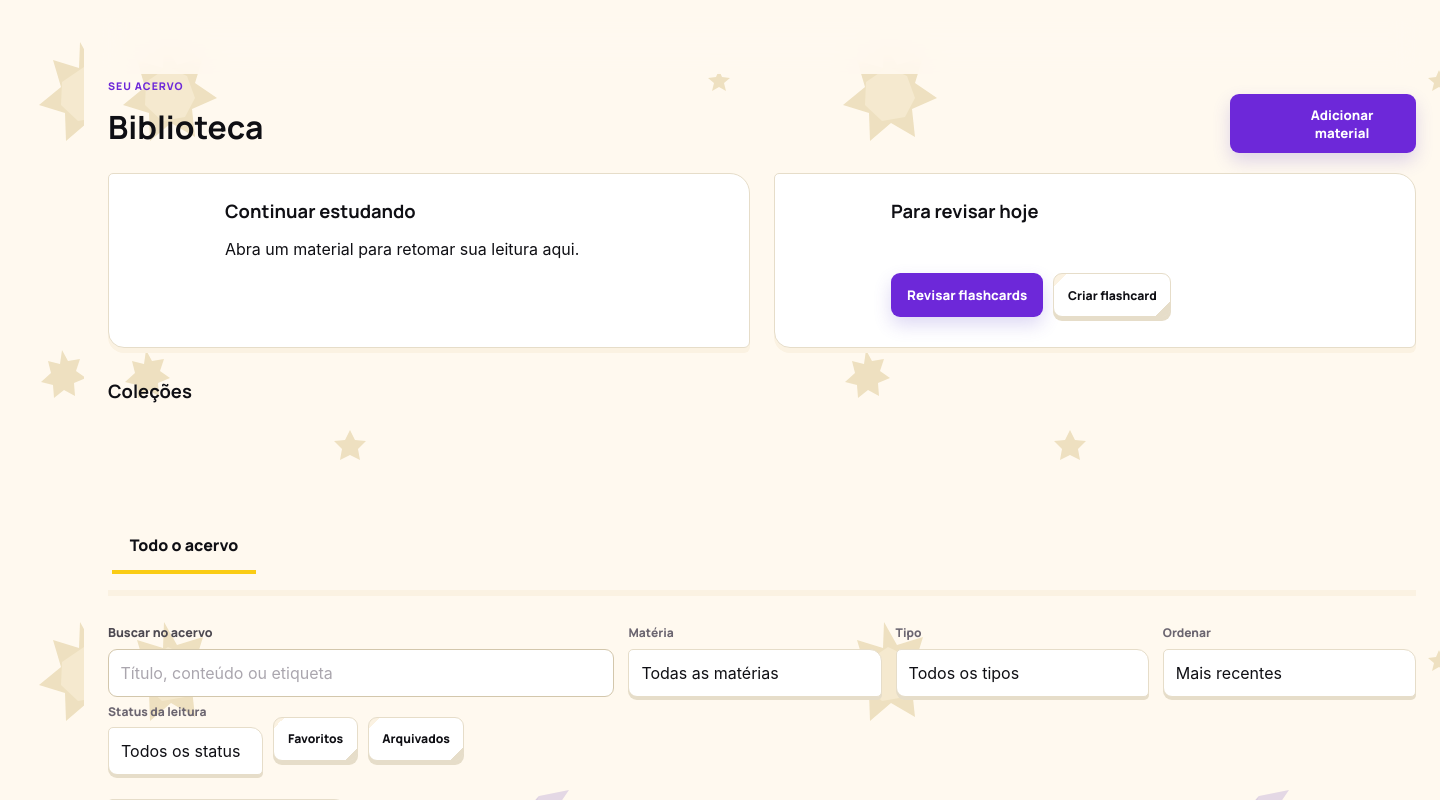
Test case: hides the answer until reveal and reviews each card only once per session
This screenshot has width=1440, height=800.
Check: the text "Resposta oculta" is not shown
Click the button "Revisar flashcards".
click(967, 296)  # box [891,274,1043,318]
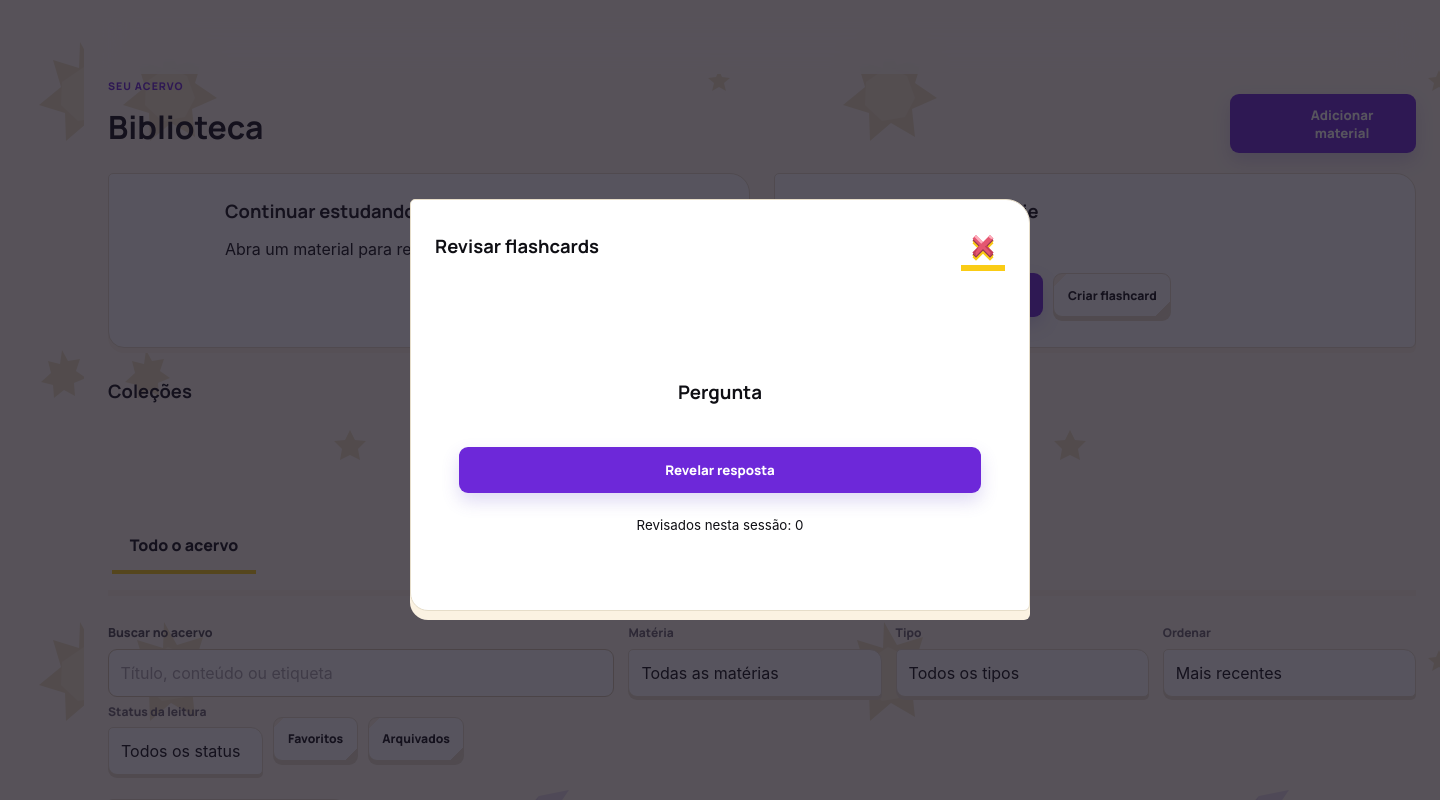
Check: the text "Resposta oculta" is not shown
Click the button "Revelar resposta".
click(720, 470)  # box [459,447,981,493]
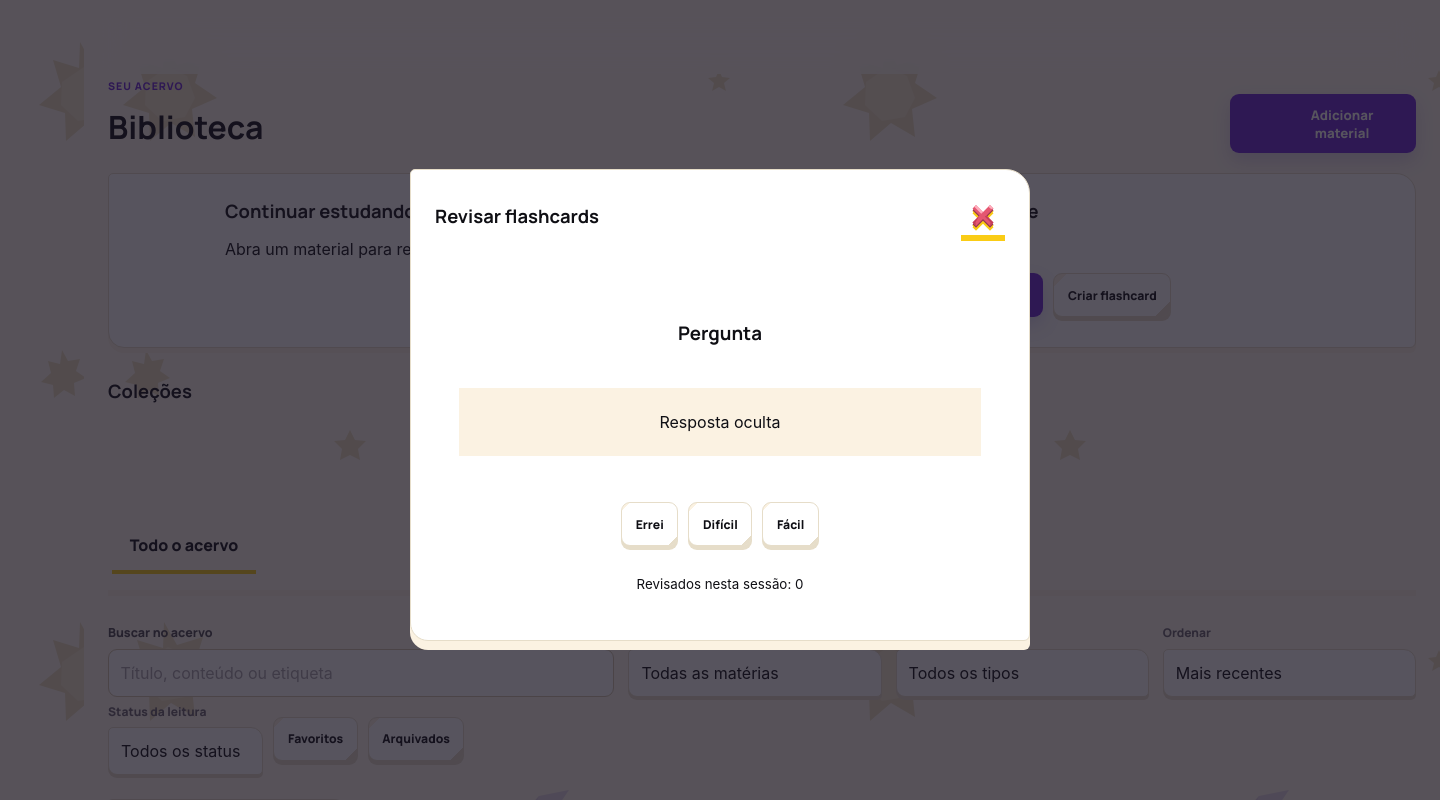
Check: the text "Resposta oculta" is shown, box [459,388,981,456]
Click the button "Errei".
click(650, 524)  # box [621,502,678,546]
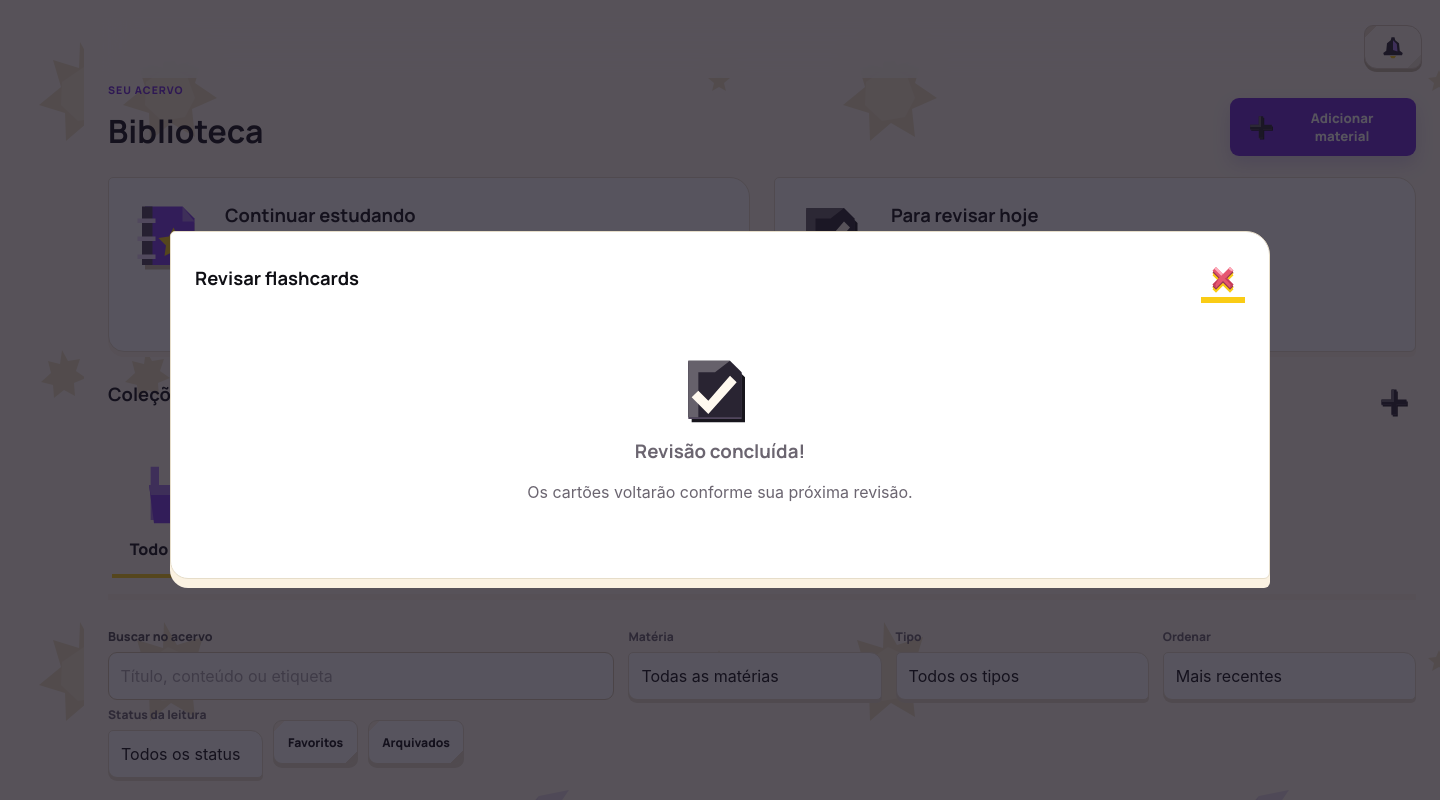
Check: the heading "Revisão concluída!" is shown, box [635,438,805,464]
